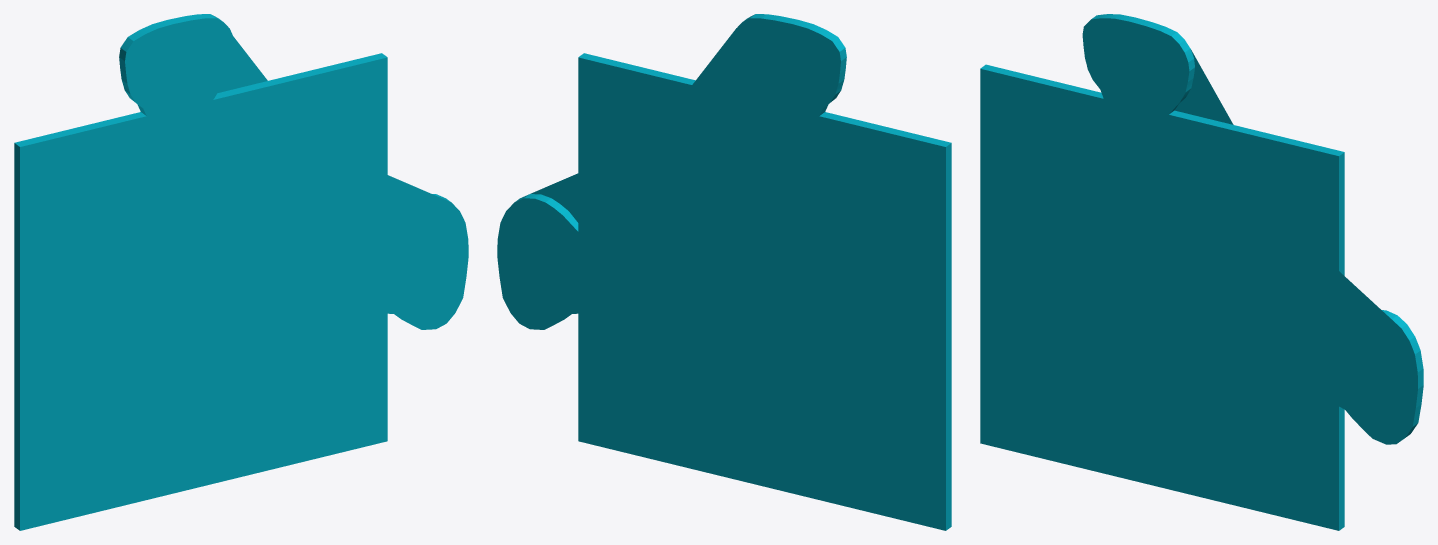
The model's file is CornerPieceTwo.obj.
3 renders of one model, left to right at view 1: azimuth 30°, elevation 25°; view 2: azimuth 150°, elevation 25°; view 3: azimuth 330°, elevation 25°, orthographic. The views are drawn at different scales.
Visible parts, largest first — view 1: Cap_1, Extrude, Cap_2; view 2: Cap_2, Extrude, Cap_1; view 3: Cap_1, Extrude, Cap_2.
Part boxes in pixels (x1,y1,x2,y2): Cap_1: (20, 18, 468, 530); Extrude: (14, 14, 450, 530); Cap_2: (218, 36, 267, 92); Cap_2: (497, 18, 945, 530); Extrude: (515, 14, 951, 530); Cap_1: (530, 173, 578, 222); Cap_1: (980, 18, 1417, 530); Extrude: (980, 14, 1423, 530); Cap_2: (1174, 50, 1233, 124).
Size of the model in its own units: 0.6978 by 0.6978 by 0.0158.
